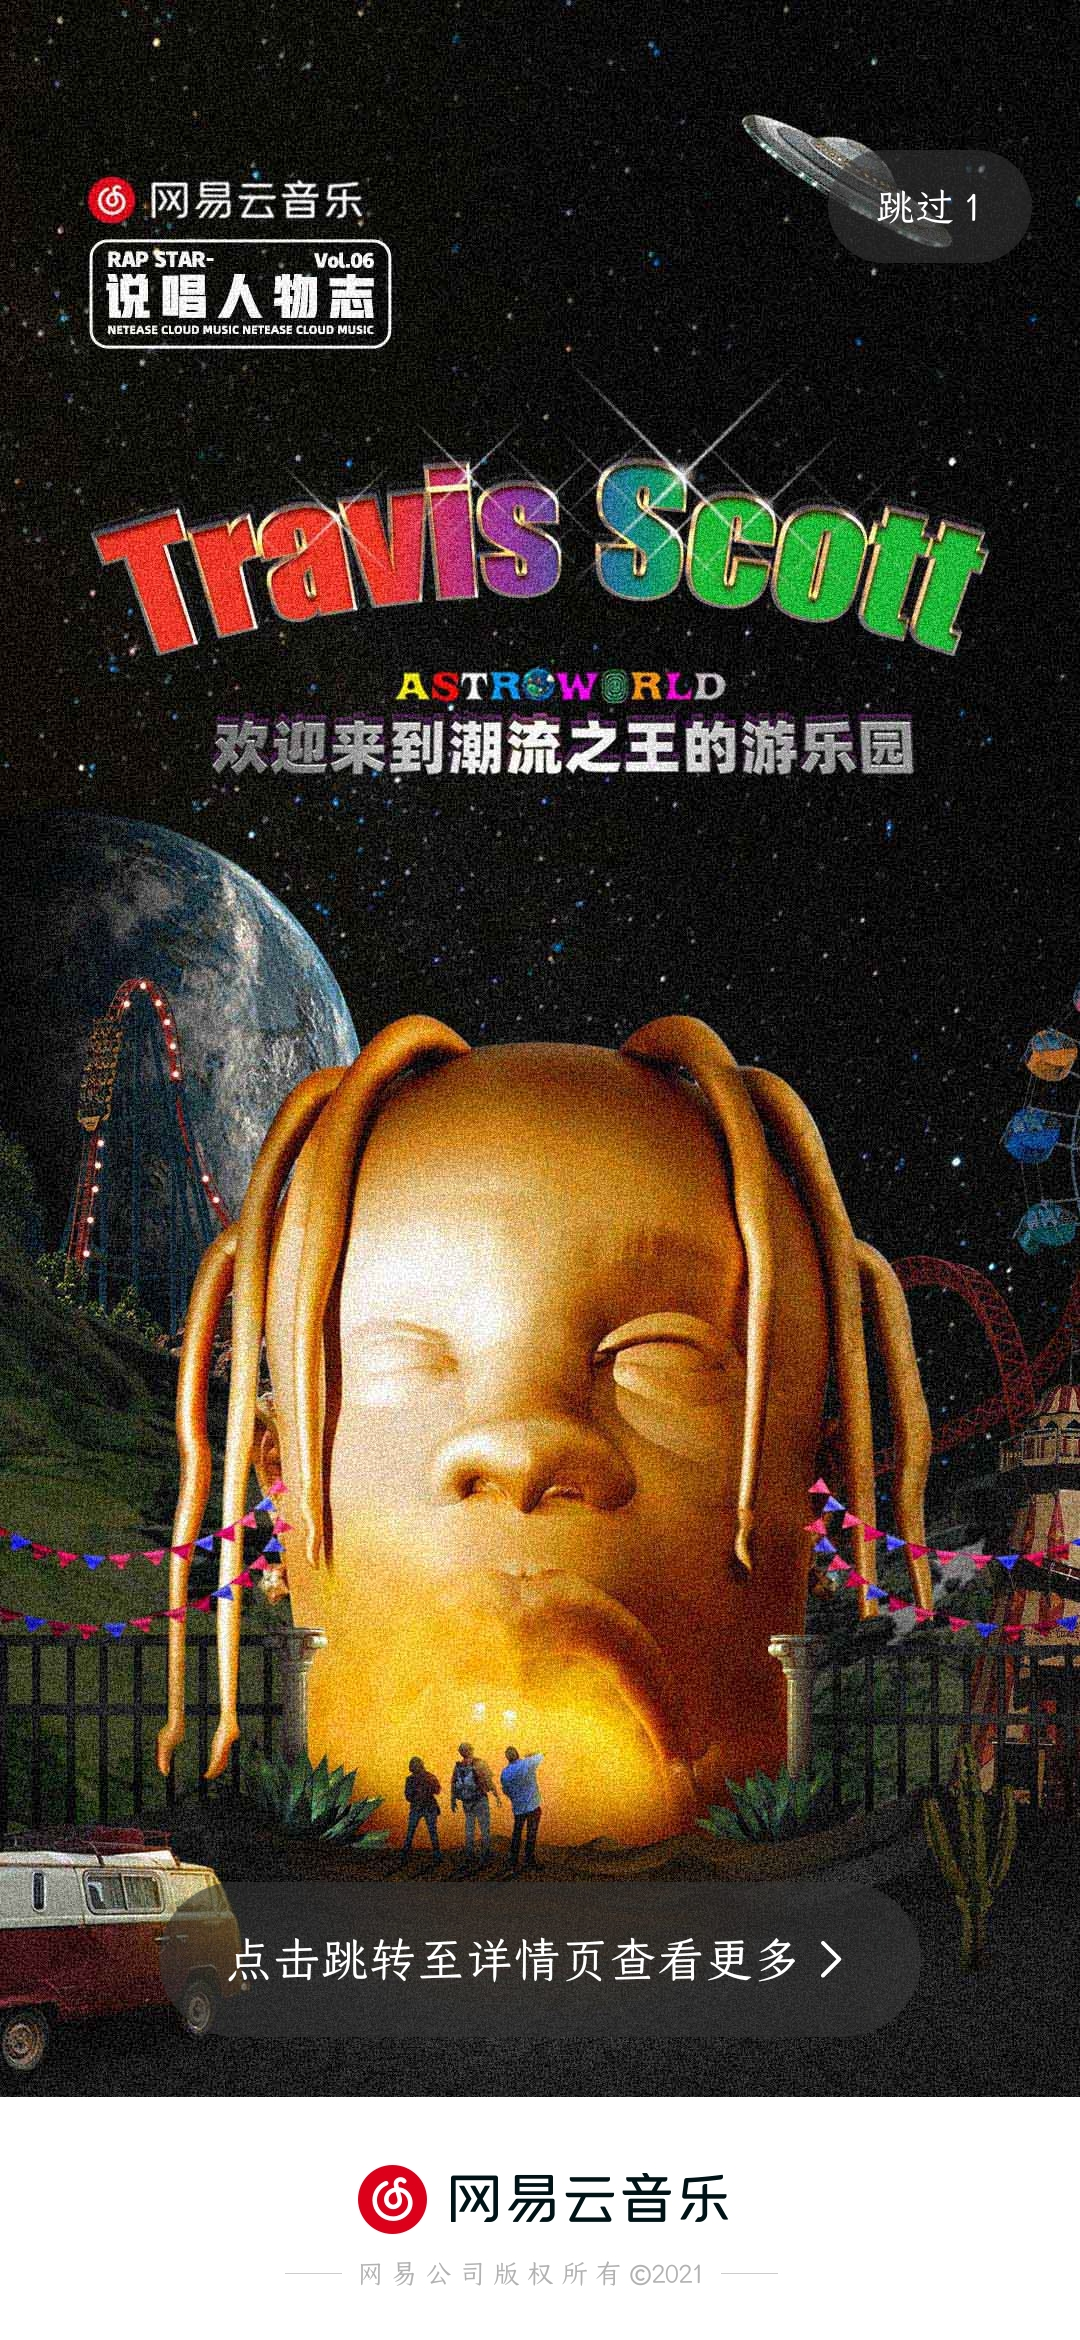skip: (840, 152, 1011, 245)
